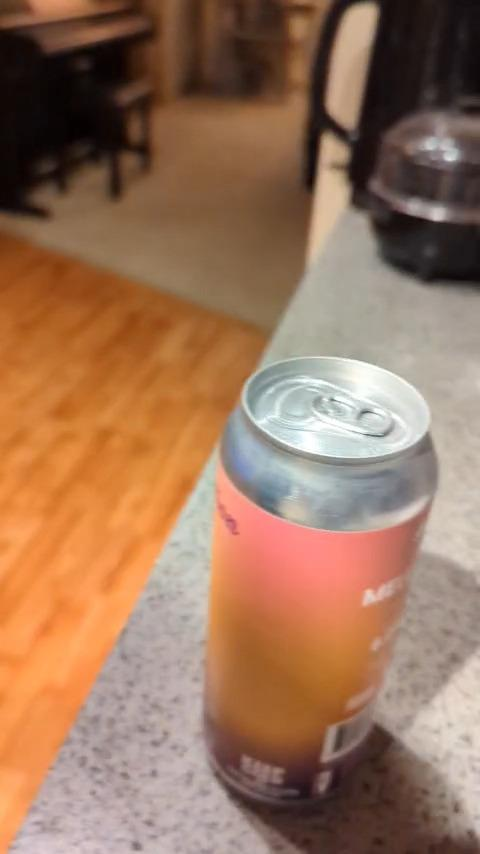metal: (205, 357, 437, 804)
